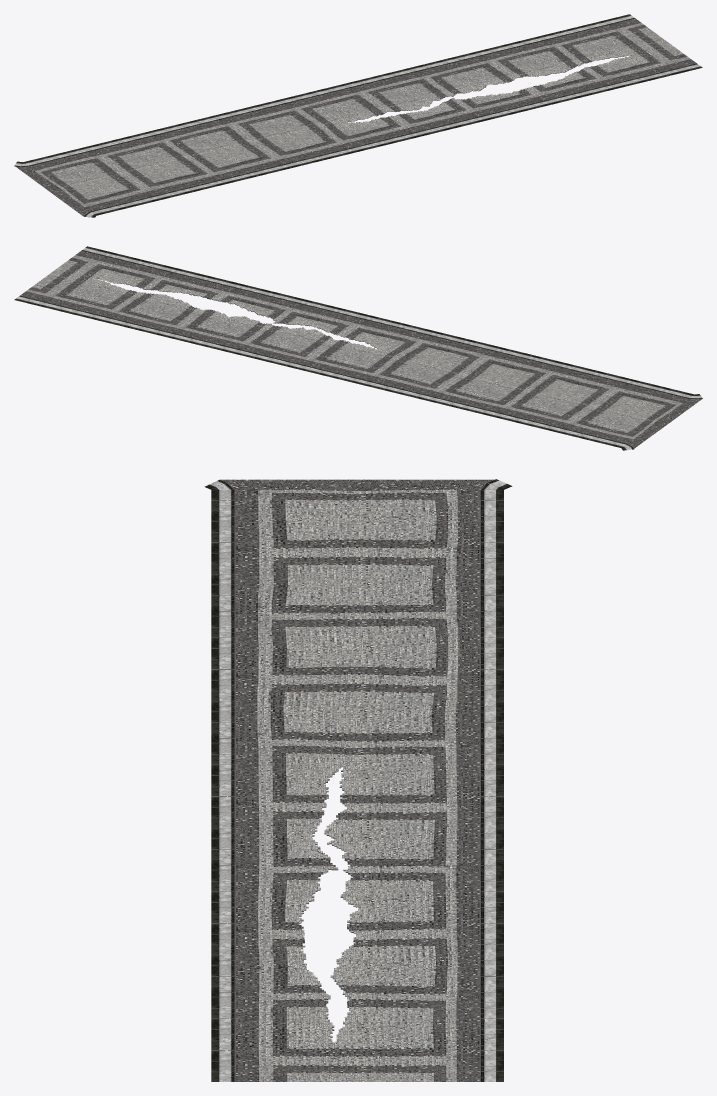
3 renders of one model, top to bottom at view 1: azimuth 30°, elevation 25°; view 2: azimuth 150°, elevation 25°; view 3: azimuth 270°, elevation 25°, orthographic. The views are drawn at different scales.
Visible parts, largest first — view 1: LODGroup_1_MainMesh_1_SubMesh_1, LODGroup_1_MainMesh_1_SubMesh_2; view 2: LODGroup_1_MainMesh_1_SubMesh_1; view 3: LODGroup_1_MainMesh_1_SubMesh_1.
Part boxes in pixels (<box>): LODGroup_1_MainMesh_1_SubMesh_1: <box>14,14,702,217</box>; LODGroup_1_MainMesh_1_SubMesh_2: <box>346,55,631,122</box>; LODGroup_1_MainMesh_1_SubMesh_1: <box>14,246,702,450</box>; LODGroup_1_MainMesh_1_SubMesh_1: <box>204,479,512,1081</box>.
Bounding box in the file's own units: 4047 × 2.43 × 875.
Materials: 2 (2 with a texture image).
